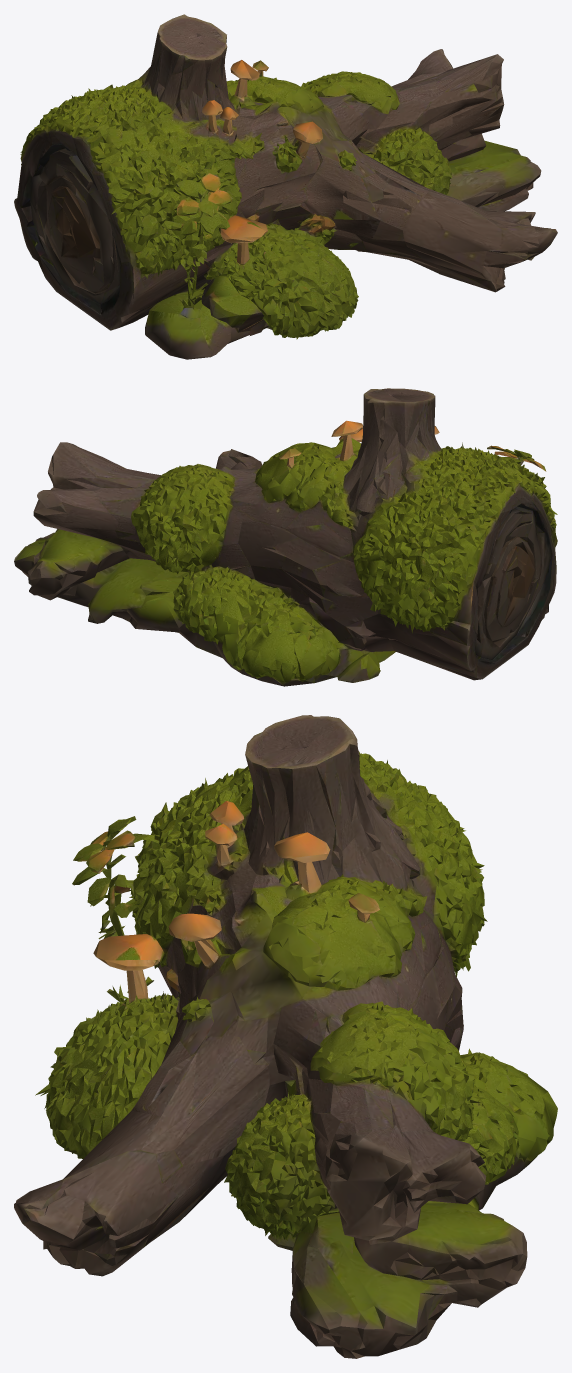
Rendered from log_s.glb.
3 renders of one model, top to bottom at view 1: azimuth 30°, elevation 25°; view 2: azimuth 150°, elevation 25°; view 3: azimuth 270°, elevation 25°, orthographic. The views are drawn at different scales.
Bounding box in the file's own units: 1.9 × 0.952 × 1.26.
1 material, 1 textured.
